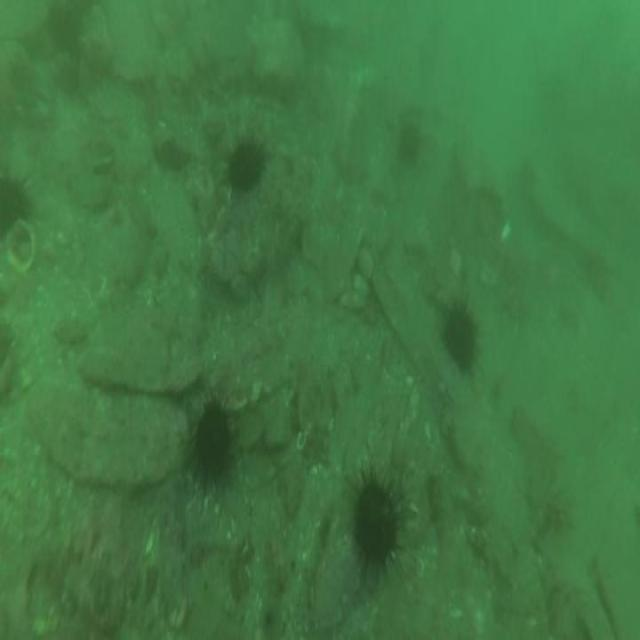echinus: (355, 482, 399, 569), (188, 406, 228, 482), (443, 310, 478, 371), (227, 142, 266, 188)
